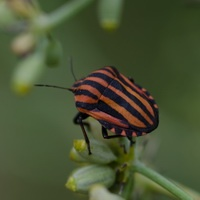insect: (35, 66, 158, 153)
